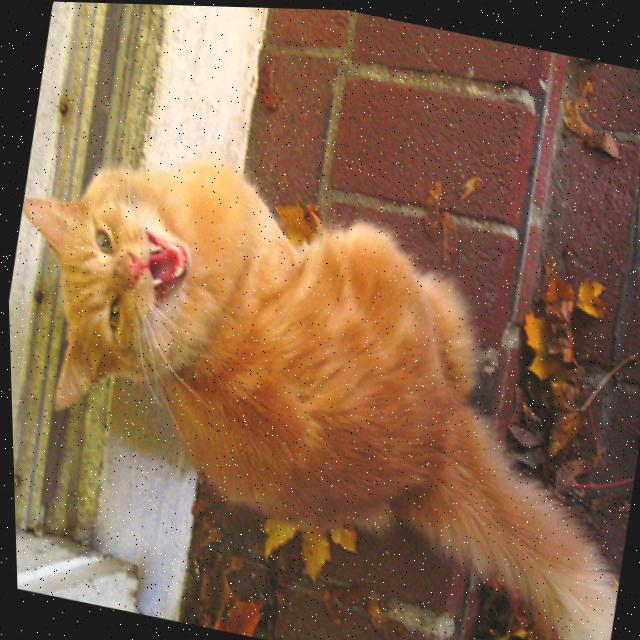Maine Coon: (3, 117, 640, 640)
